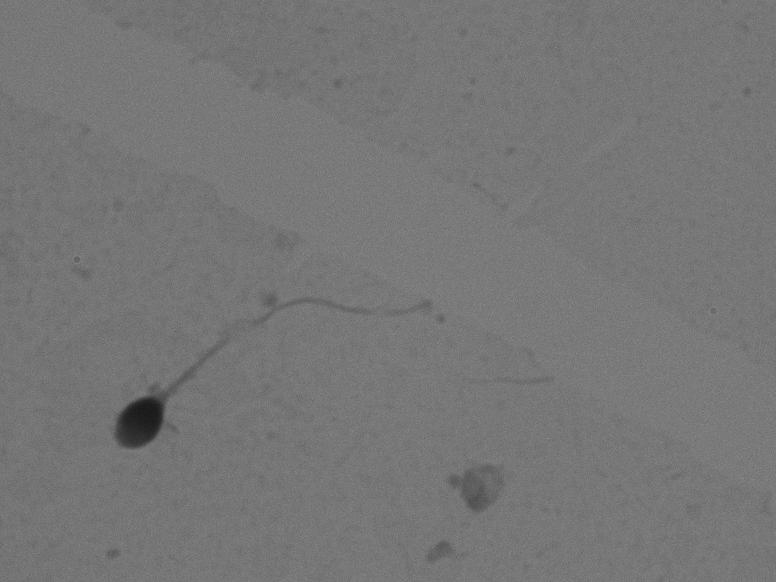Abnormal: (81, 256, 443, 499)
